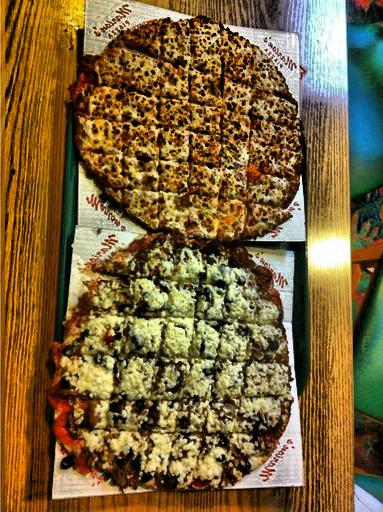pizza: (72, 33, 307, 484)
